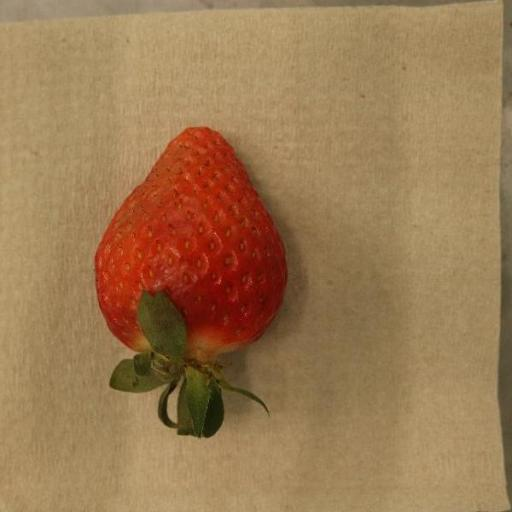Strawberry: (95, 127, 289, 440)
